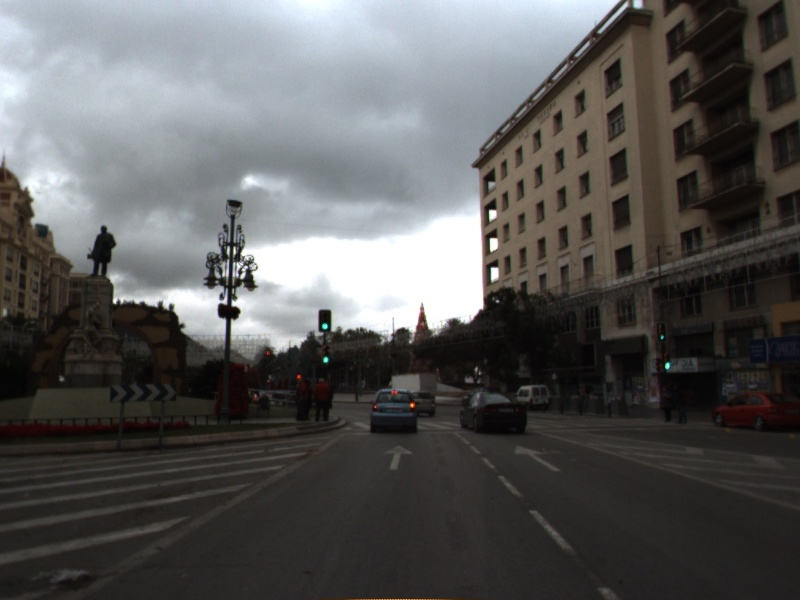STRAIGHT: (511, 443, 564, 474), (381, 443, 416, 472)
